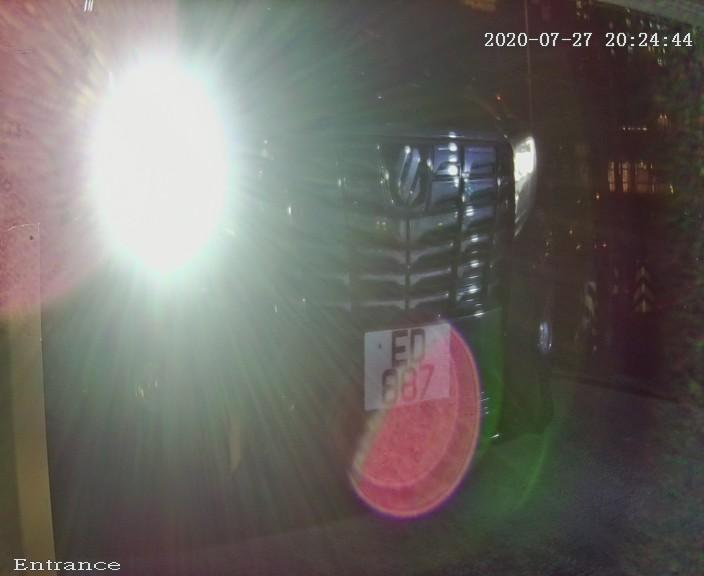privatecar: (36, 2, 617, 534)
